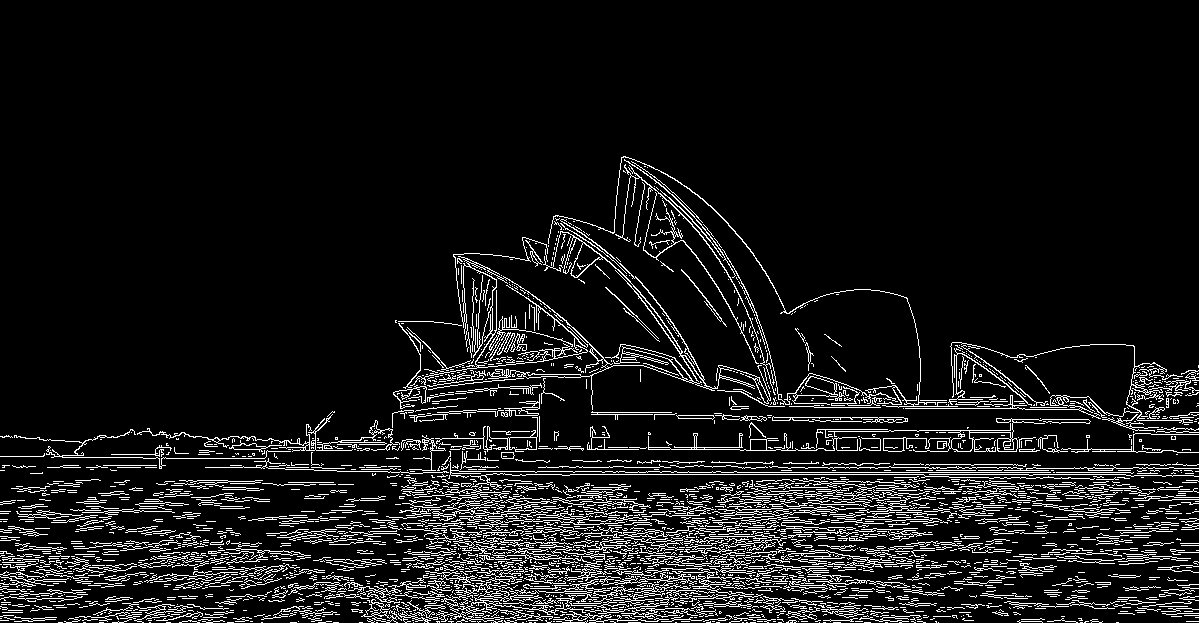opera house: (344, 138, 1149, 435)
